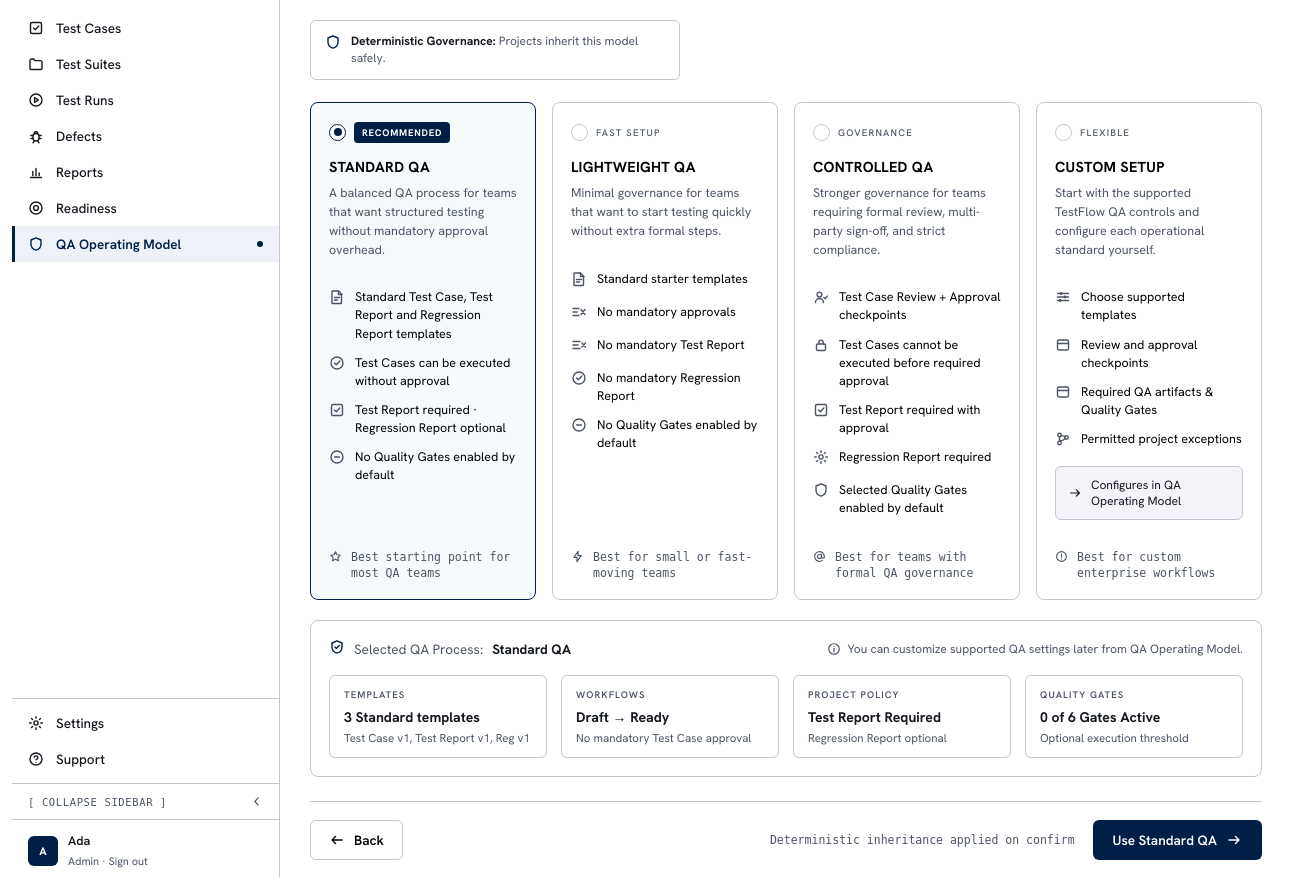
Test: QA Setup — Set up your QA process › shows an error state (not a crash) if publishing fails
(page scrolled)
Expected: the heading "Standard QA" is shown, x1=329 y1=157 x2=430 y2=176
Click the button "Use Standard QA" at (1177,840), box x1=1093 y1=820 x2=1262 y2=860
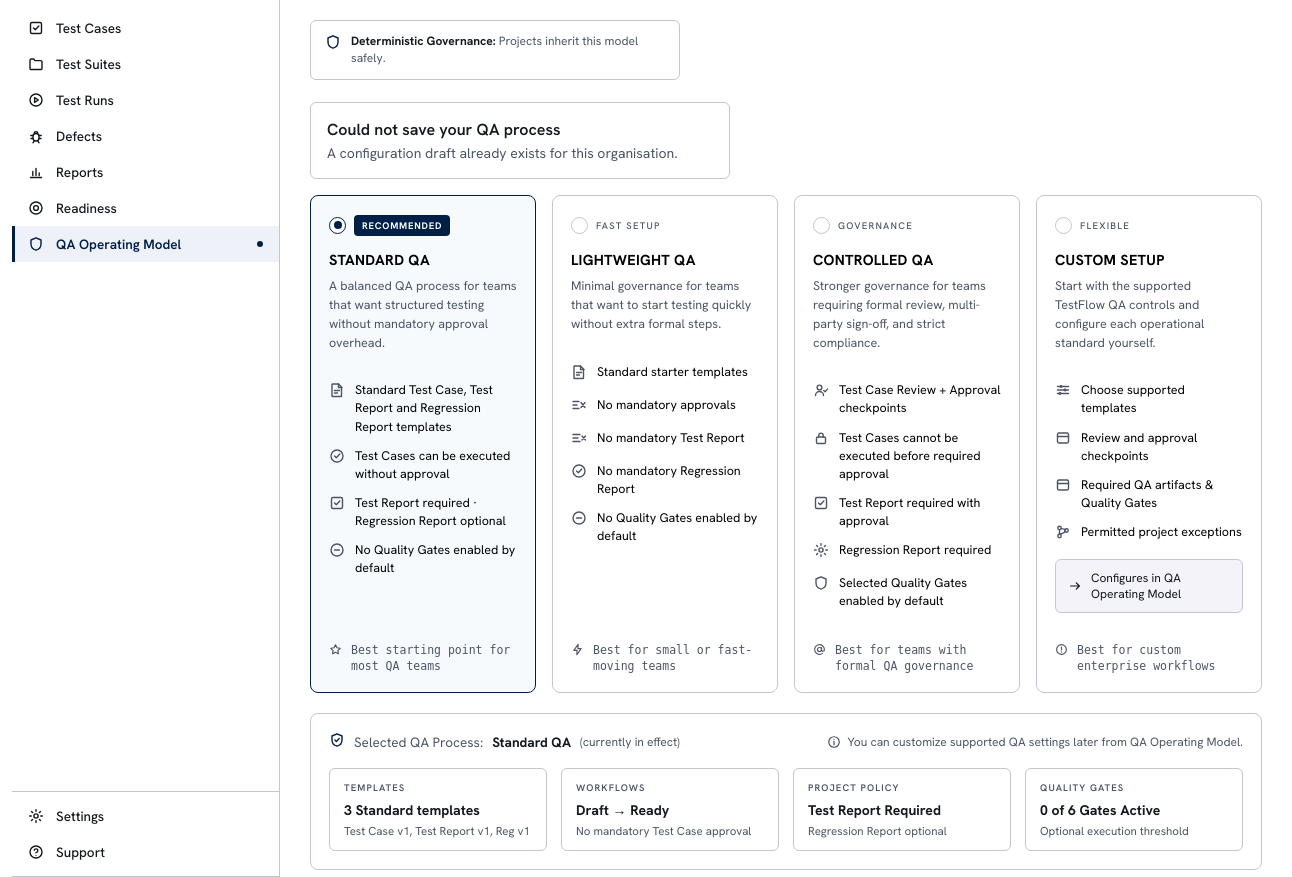
Expected: the text "A configuration draft already exists for this organisation." is shown, x1=327 y1=144 x2=713 y2=162
